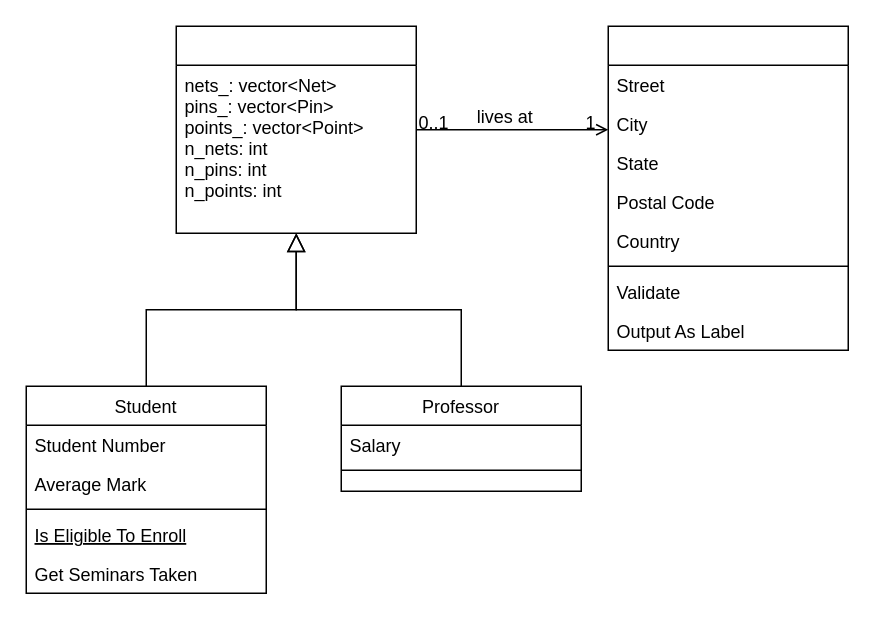
Some shapes in this 875 by 624 pixel diagram are drawn without their labels. The box of each missing label's shape, as (x1, y1, x2, y2) in pixels:
Address: (607, 25, 848, 350)
NetList: (175, 25, 416, 233)
